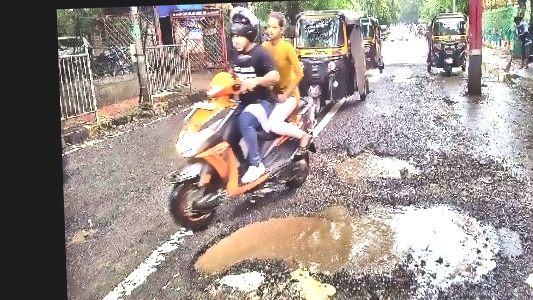pothole: (185, 196, 505, 295), (330, 142, 424, 183)
